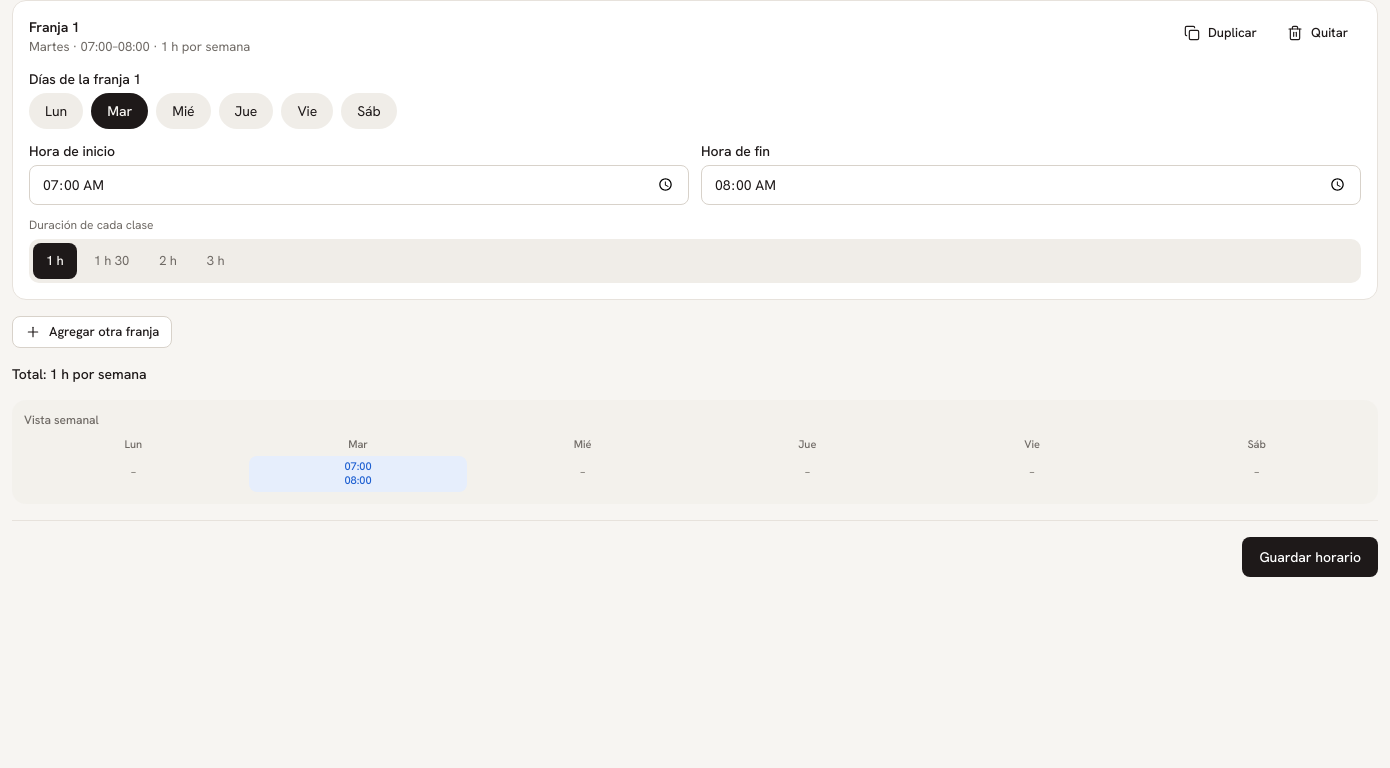
Scenario: HorarioEditor (franjas) › tras guardar bien ya no quedan cambios sin guardar y se avisa al contenedor
The image size is (1390, 768).
Click the button named "Miércoles": click(183, 110) left=156, top=92, right=211, bottom=128
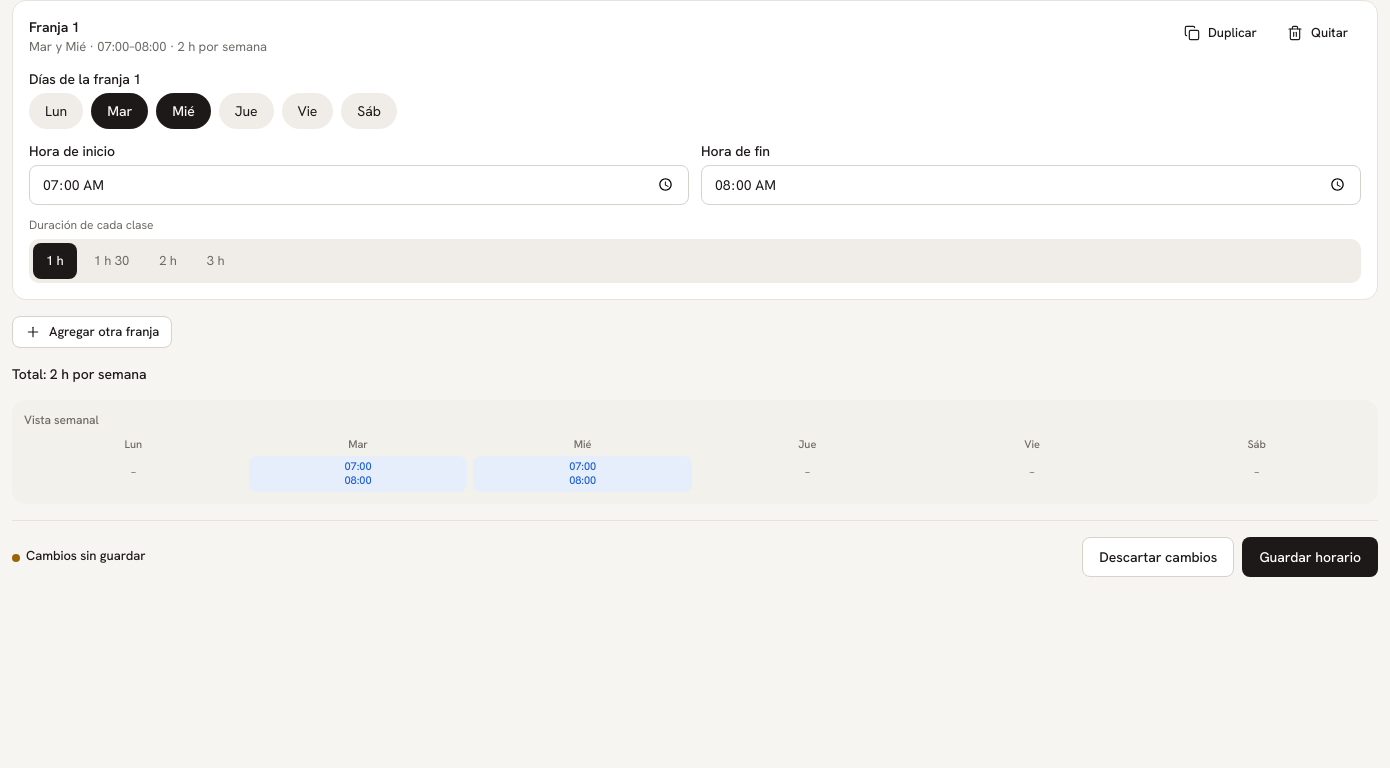
Click the button "Guardar horario": click(1310, 556) left=1242, top=536, right=1378, bottom=576
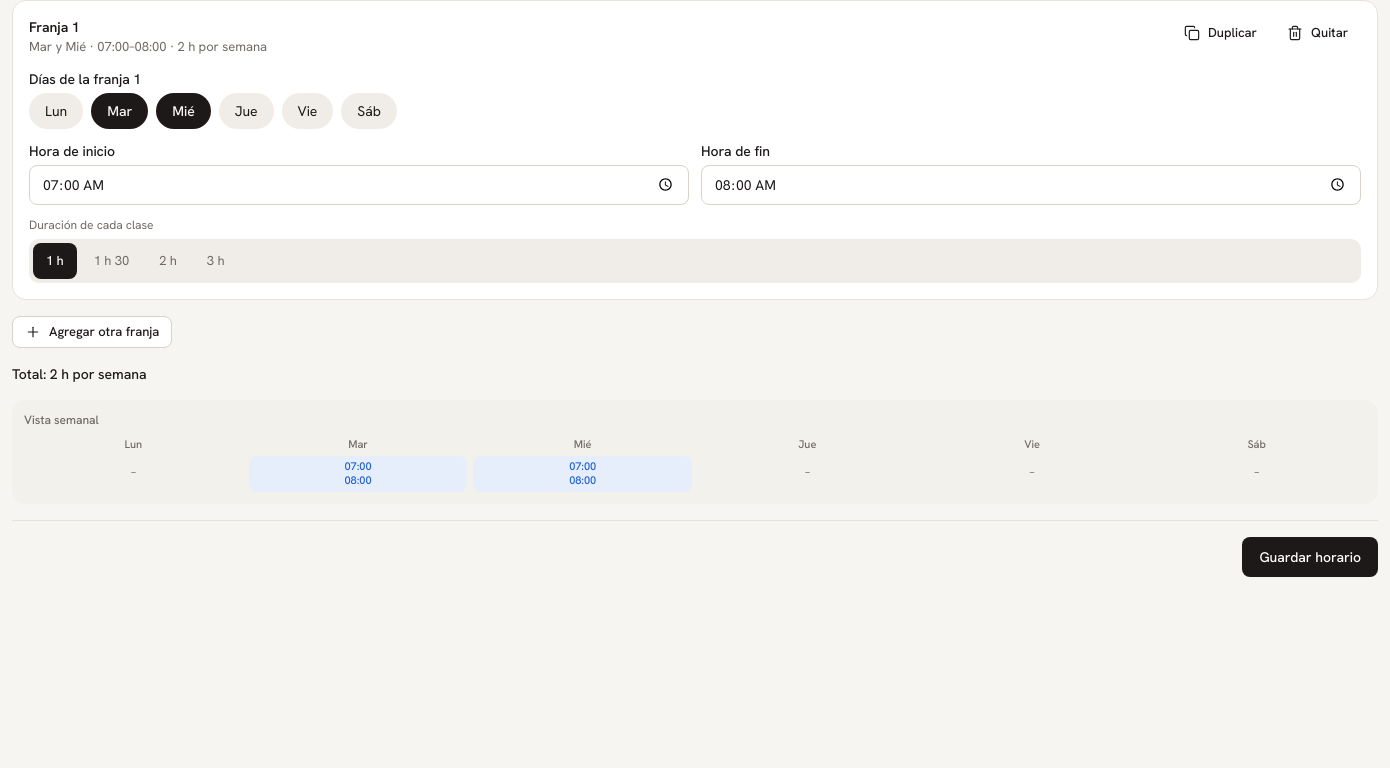
Check: the text "Cambios sin guardar" is gone
